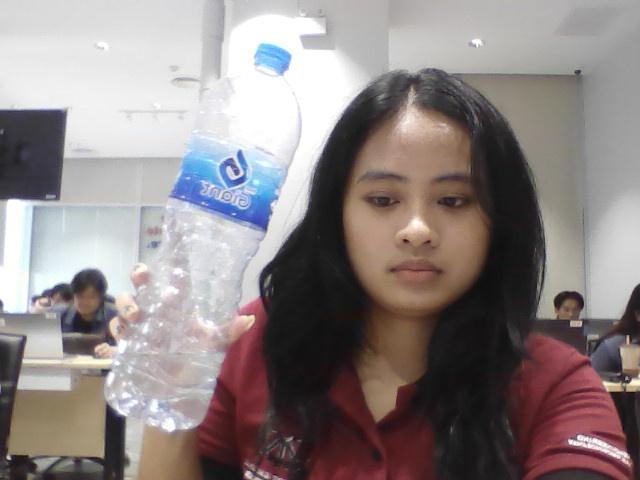bottle: (125, 39, 308, 438)
